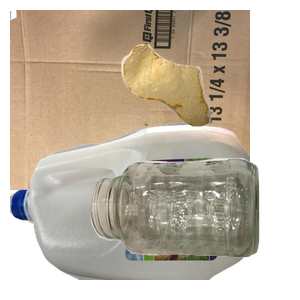cardboard: (10, 10, 250, 190)
glass: (88, 156, 300, 300)
plastic: (10, 120, 250, 300)
trash: (119, 42, 300, 161)
